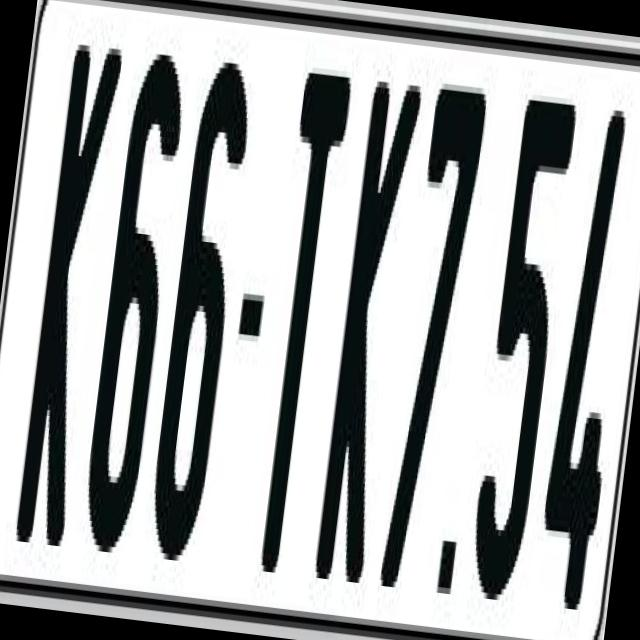4: (528, 89, 640, 627)
5: (461, 81, 579, 596)
6: (76, 34, 196, 561), (138, 59, 252, 592)
7: (370, 70, 489, 609)
K: (10, 26, 126, 546), (310, 74, 420, 577)
T: (244, 72, 354, 575)
